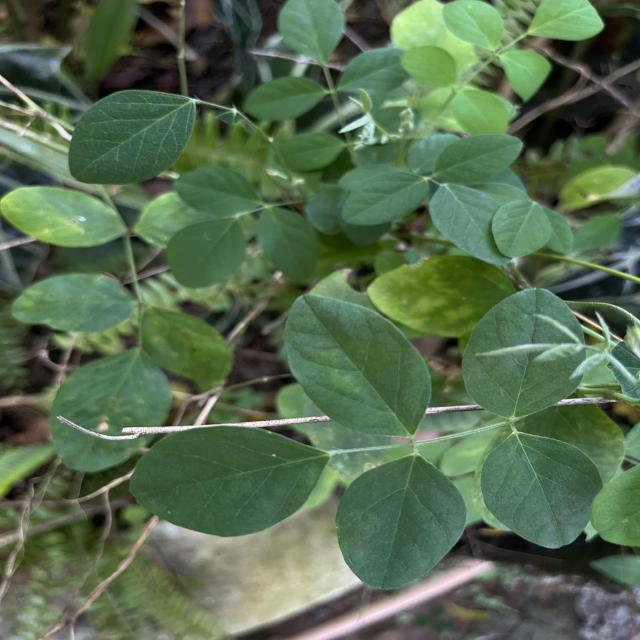Clitoria ternatea: (128, 424, 329, 538), (282, 293, 433, 438), (334, 454, 468, 590), (460, 286, 588, 421), (480, 430, 604, 550), (68, 89, 198, 186)
